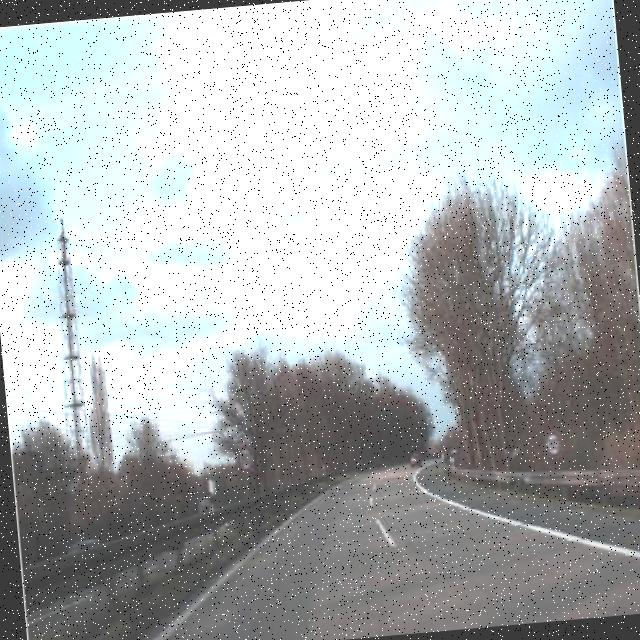Ograniczenie predkosci do 80: (235, 443, 258, 477), (543, 428, 564, 462)
